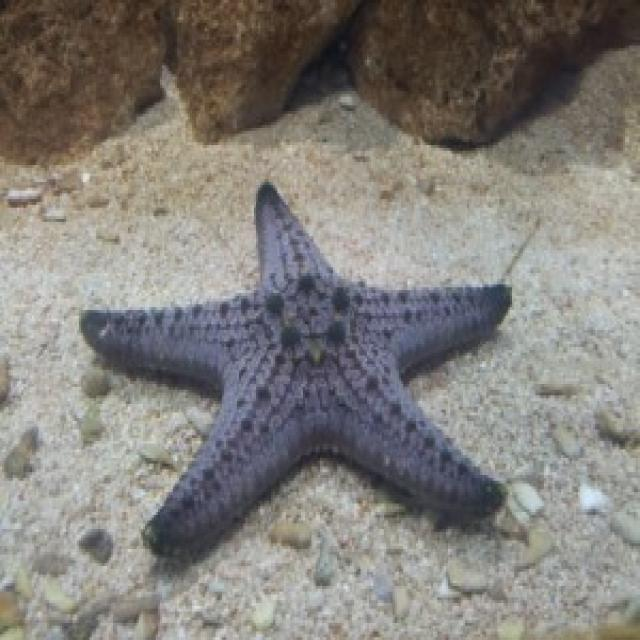Starfish: (76, 164, 520, 565)
